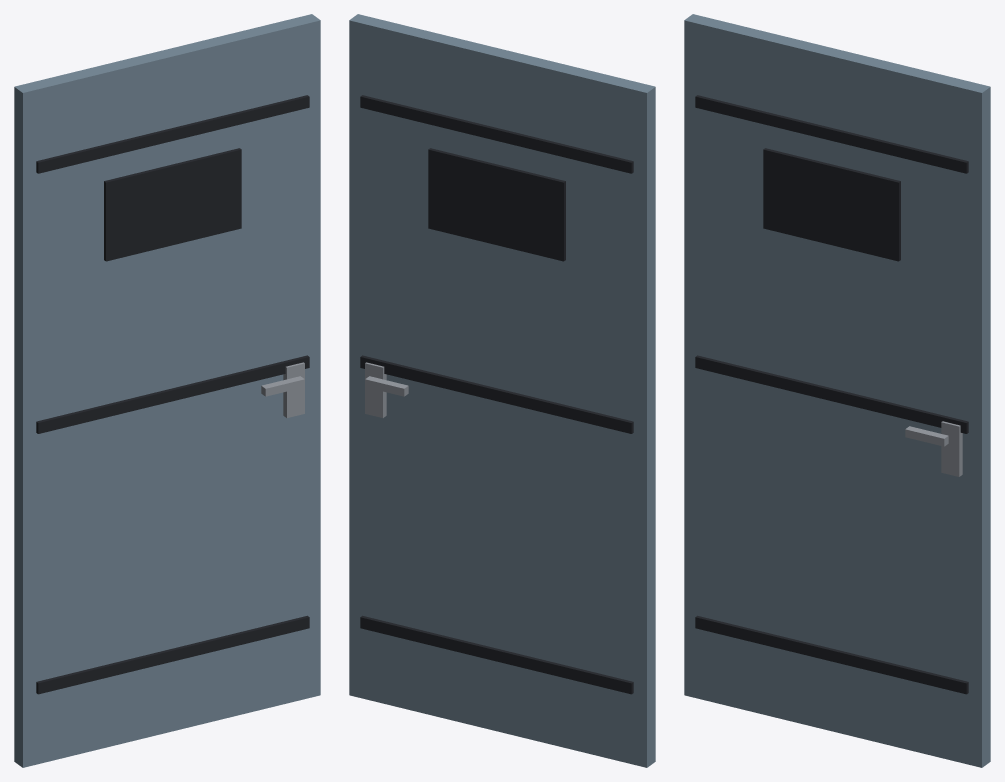
Rendered from SM_Door_metal_100x215.fbx.
3 views of the same model, side by side, from view 1: azimuth 30°, elevation 25°; view 2: azimuth 150°, elevation 25°; view 3: azimuth 330°, elevation 25° (orthographic).
Visible parts, largest first — view 1: SM_Door_metal_100x215; view 2: SM_Door_metal_100x215; view 3: SM_Door_metal_100x215.
Part boxes in pixels (bbox=[...]): SM_Door_metal_100x215: bbox=[14, 14, 320, 767]; SM_Door_metal_100x215: bbox=[349, 14, 655, 767]; SM_Door_metal_100x215: bbox=[684, 14, 990, 767].
Bounding box in the file's own units: 0.988 × 2.14 × 0.175.
